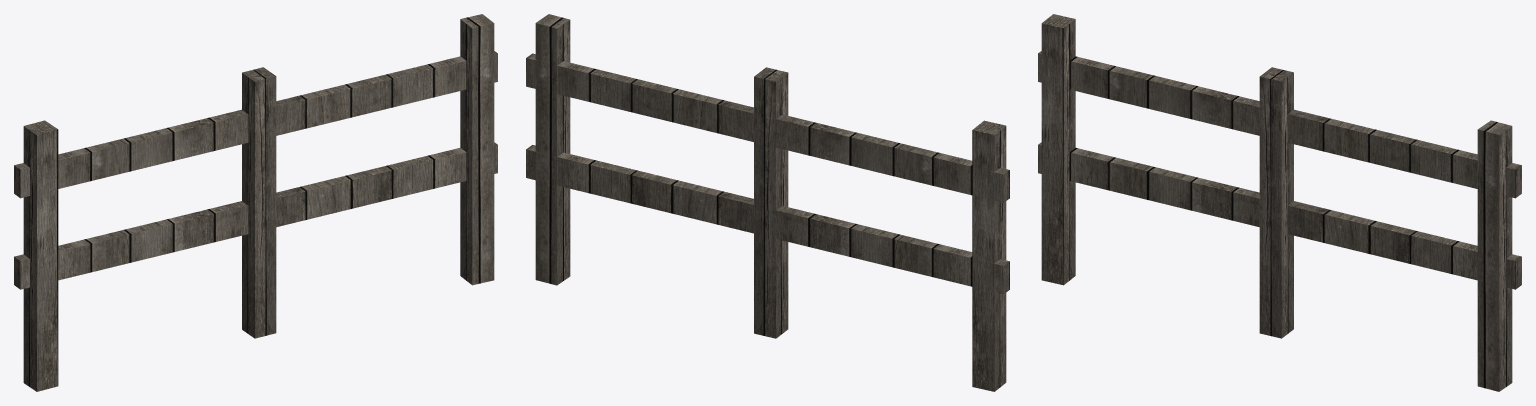
Rendered from Prop_Fence.fbx.
The picture shows the model from 3 angles, left to right: view 1: azimuth 30°, elevation 25°; view 2: azimuth 150°, elevation 25°; view 3: azimuth 330°, elevation 25°; orthographic projection.
Visible parts, largest first — view 1: Fence_Mesh; view 2: Fence_Mesh; view 3: Fence_Mesh.
Part boxes in pixels (left/top/right/bottom): Fence_Mesh: left=14, top=14, right=497, bottom=391; Fence_Mesh: left=526, top=14, right=1009, bottom=391; Fence_Mesh: left=1038, top=14, right=1521, bottom=391.
Size of the model in its own units: 1.75 by 0.9 by 0.0827.
1 material, 1 textured.
